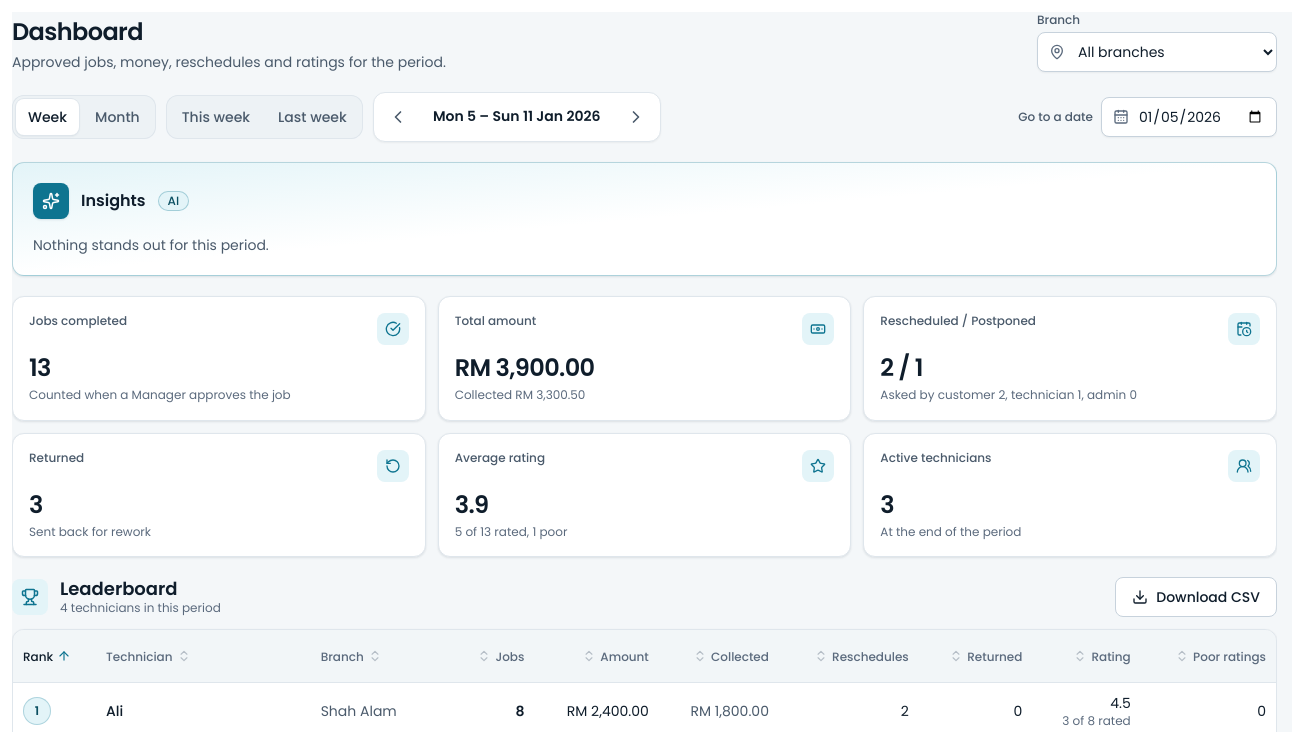
Test: Dashboard: period and address (AC8) › switches to Month (calendar months, 6-month trend) and steps across a year end
This screenshot has width=1292, height=732.
Check: the element named "Summary" is shown, box [12, 296, 1277, 557]
Click the button "Month": (117, 117) [83, 99, 152, 135]
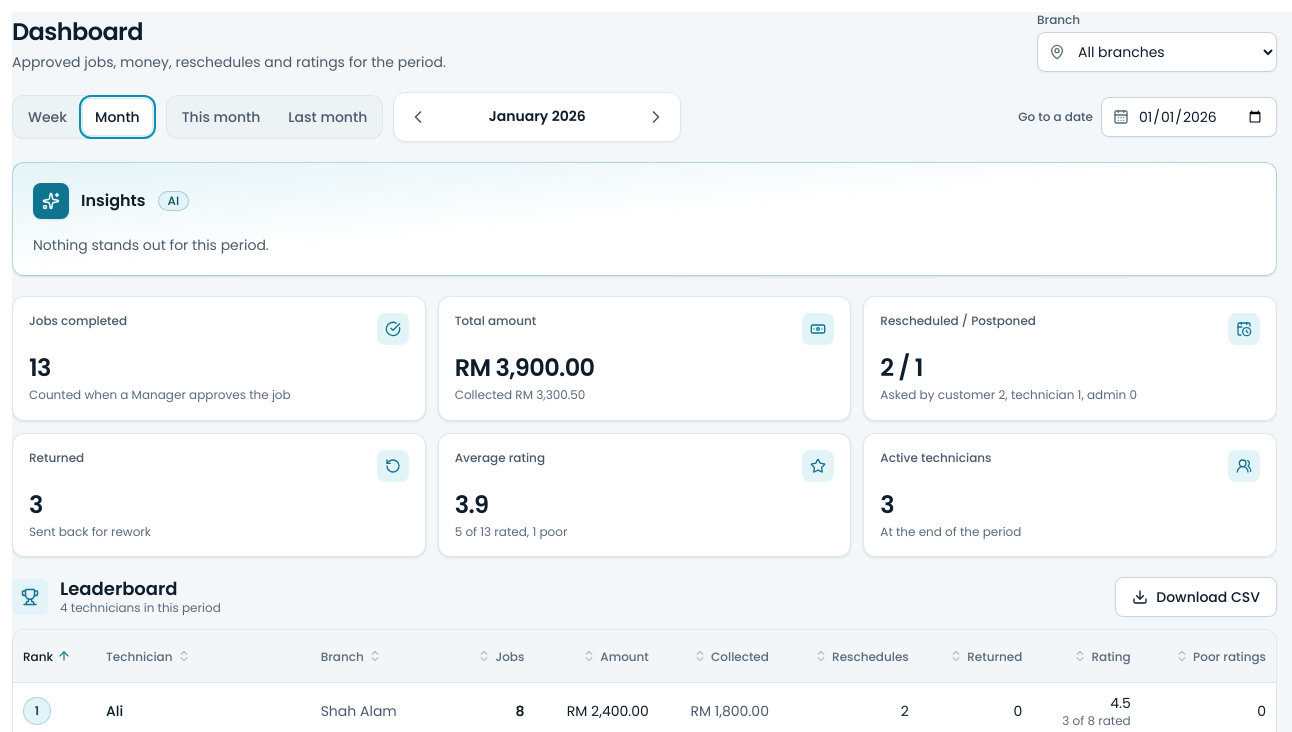
Check: the text "January 2026" is shown, box [489, 106, 586, 126]
Click the button named "Previous month": (418, 117) [398, 97, 438, 137]
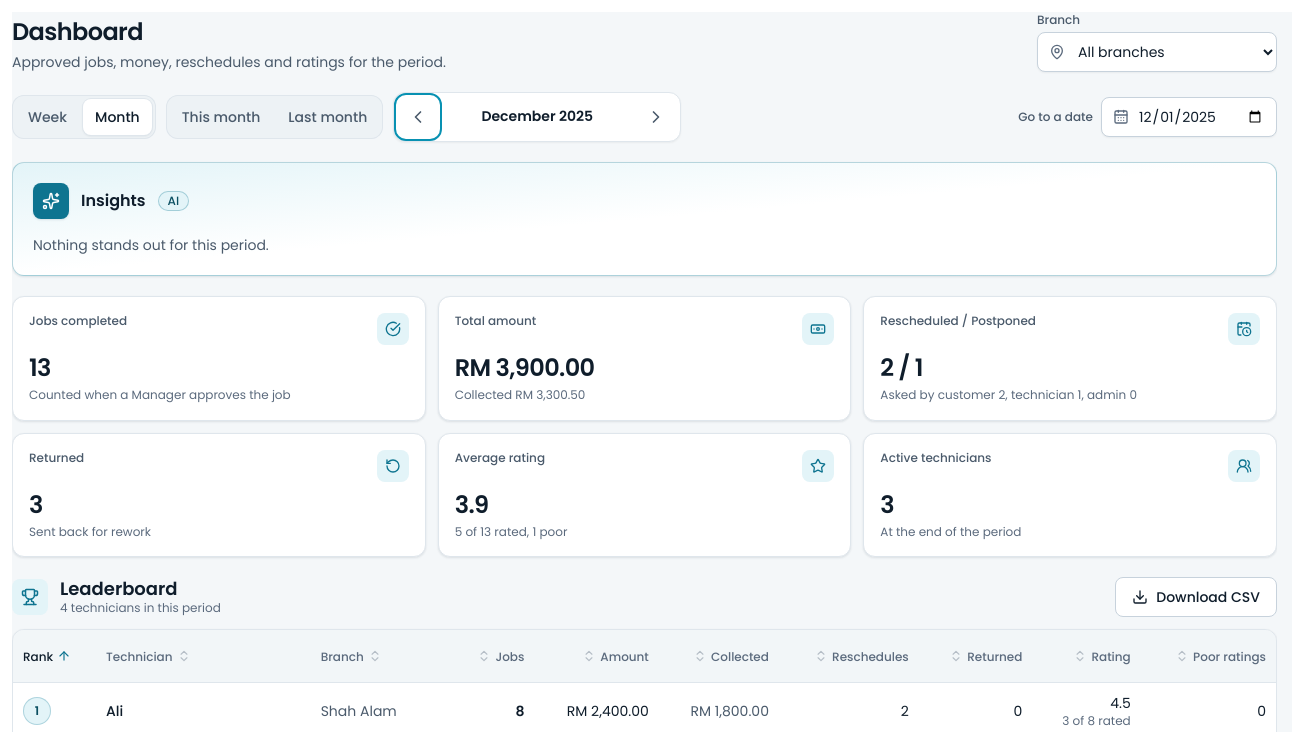
Check: the text "December 2025" is shown, box [481, 106, 593, 126]
Click the button "This month": (221, 117) [170, 99, 272, 135]
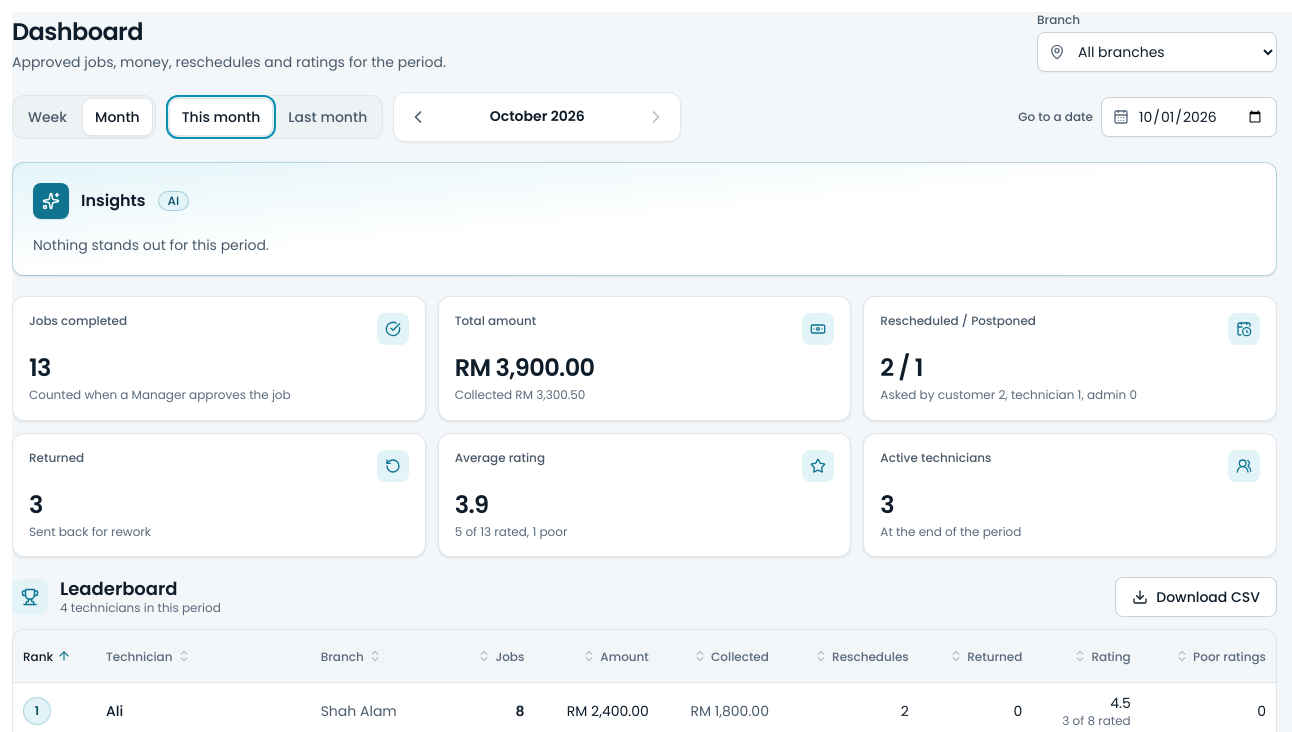
Check: the button "Last month" is shown, box [276, 99, 379, 135]
Check: the text "October 2026" is shown, box [490, 106, 585, 126]
